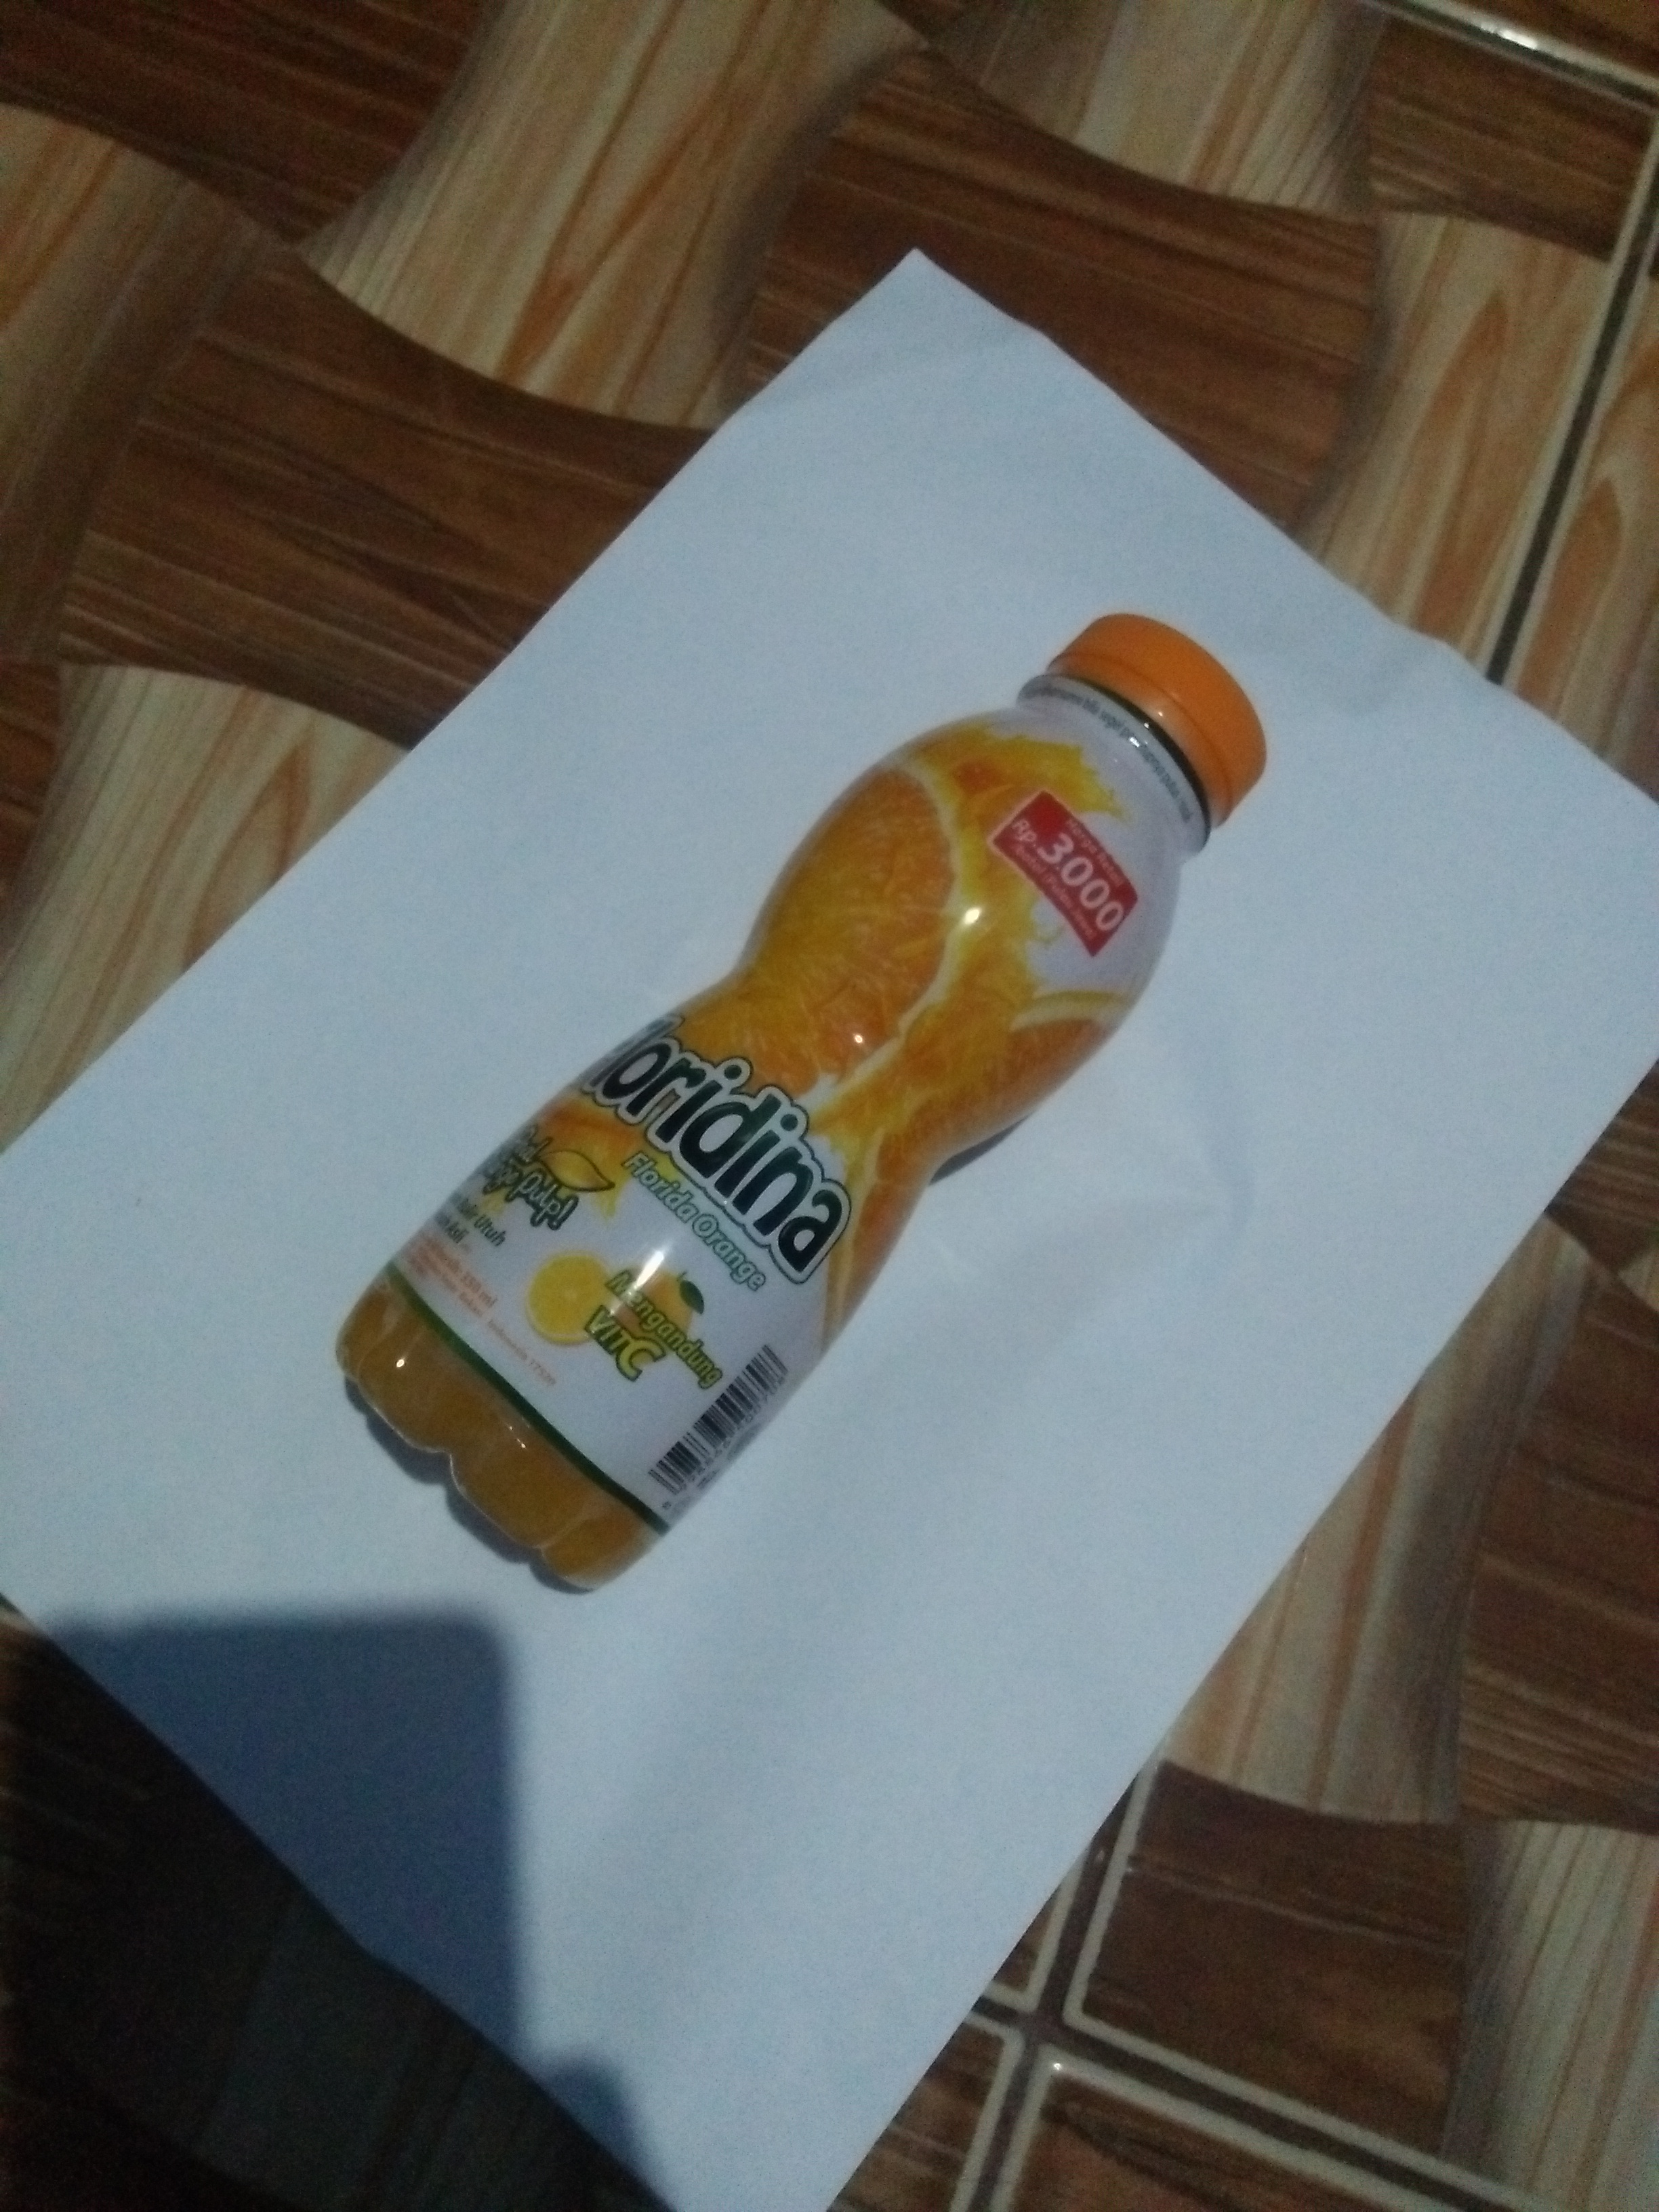Floridina: (328, 596, 1276, 1620)
